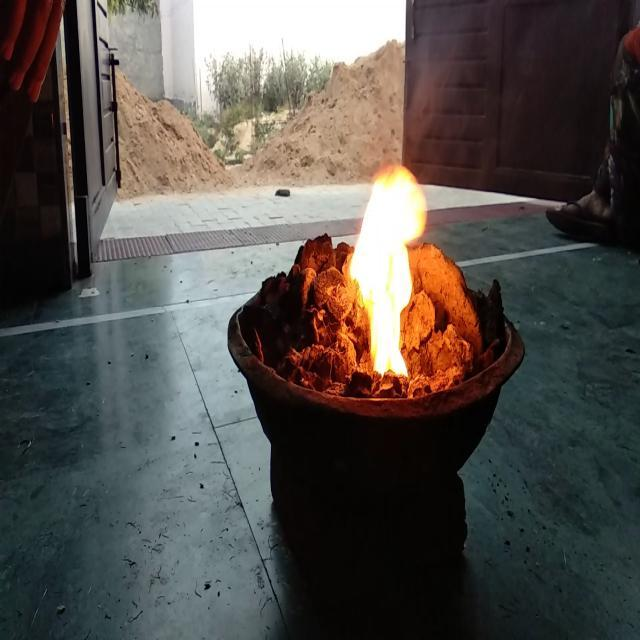Fire: (346, 144, 428, 394)
Smoke: (384, 0, 494, 142)
